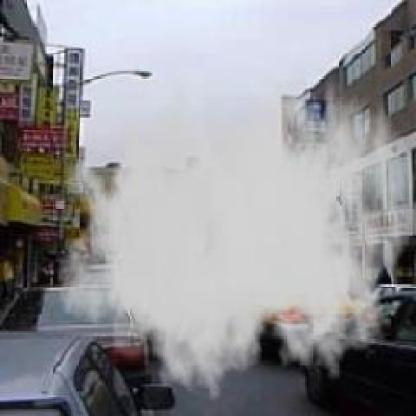Smoke: (55, 43, 414, 408)
